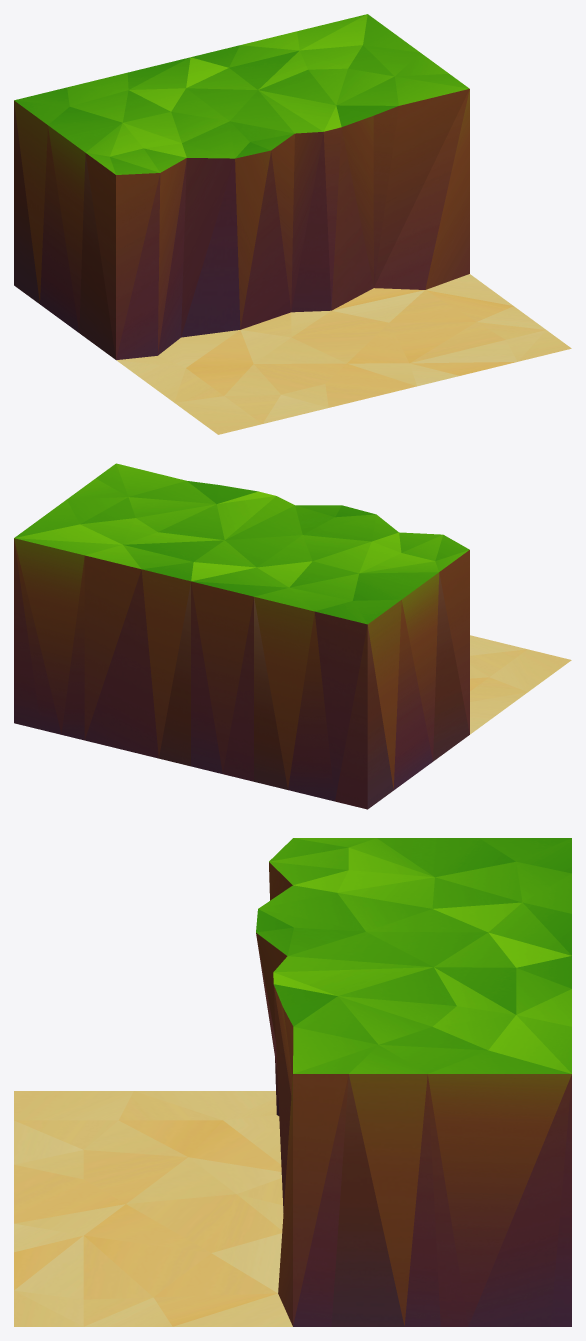
The model's file is GL-Terrain-part-14-LOD2.fbx.
3 views of the same model, one above another, from view 1: azimuth 30°, elevation 25°; view 2: azimuth 150°, elevation 25°; view 3: azimuth 270°, elevation 25° (orthographic). The views are drawn at different scales.
Visible parts, largest first — view 1: GL_Terrain_part_14; view 2: GL_Terrain_part_14; view 3: GL_Terrain_part_14.
Part boxes in pixels (<box>): GL_Terrain_part_14: <box>14,14,571,434</box>; GL_Terrain_part_14: <box>14,463,571,809</box>; GL_Terrain_part_14: <box>14,838,571,1326</box>.
Bounding box in the file's own units: 6 × 3 × 6.
